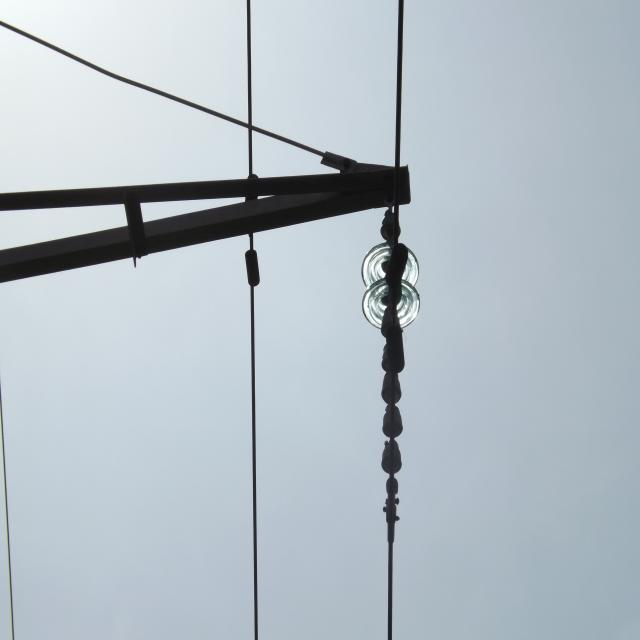正常绝缘子: (354, 204, 426, 501)
绝缘子破损: (380, 319, 405, 350), (381, 420, 403, 454), (380, 355, 406, 382), (381, 386, 403, 417)
